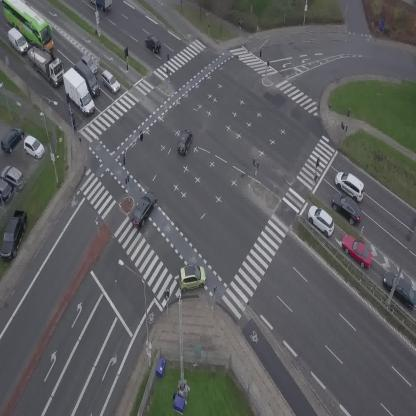bicycle: (71, 115, 79, 132)
car: (337, 229, 379, 273), (326, 188, 367, 228), (126, 188, 162, 231), (330, 167, 371, 203), (303, 202, 341, 239), (176, 261, 209, 294), (97, 68, 124, 96), (173, 126, 196, 157), (79, 52, 101, 75), (142, 33, 164, 55)
lorry: (17, 34, 73, 89), (57, 64, 97, 119), (72, 58, 104, 99), (3, 26, 33, 56), (90, 0, 112, 11)
